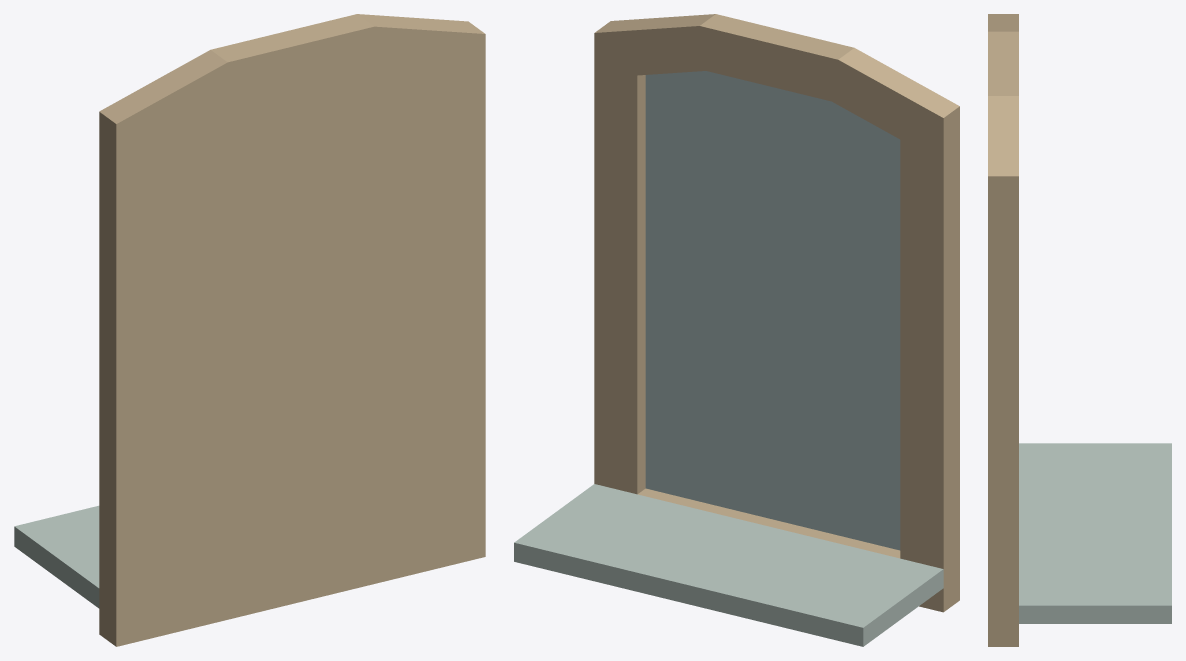
The model's file is furn_mirror.glb.
The picture shows the model from 3 angles, left to right: view 1: azimuth 30°, elevation 25°; view 2: azimuth 150°, elevation 25°; view 3: azimuth 270°, elevation 25°; orthographic projection. The views are drawn at different scales.
Visible parts, largest first — view 1: furn_mirror; view 2: furn_mirror; view 3: furn_mirror.
Part boxes in pixels (x1,y1,x2,y2): furn_mirror: [14, 14, 485, 646]; furn_mirror: [514, 14, 959, 646]; furn_mirror: [988, 14, 1171, 646].
Bounding box in the file's own units: 0.6027 × 0.8693 × 0.2888.
